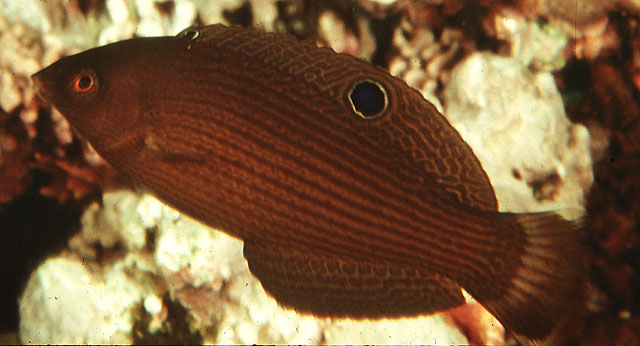fish: (32, 22, 585, 345)
